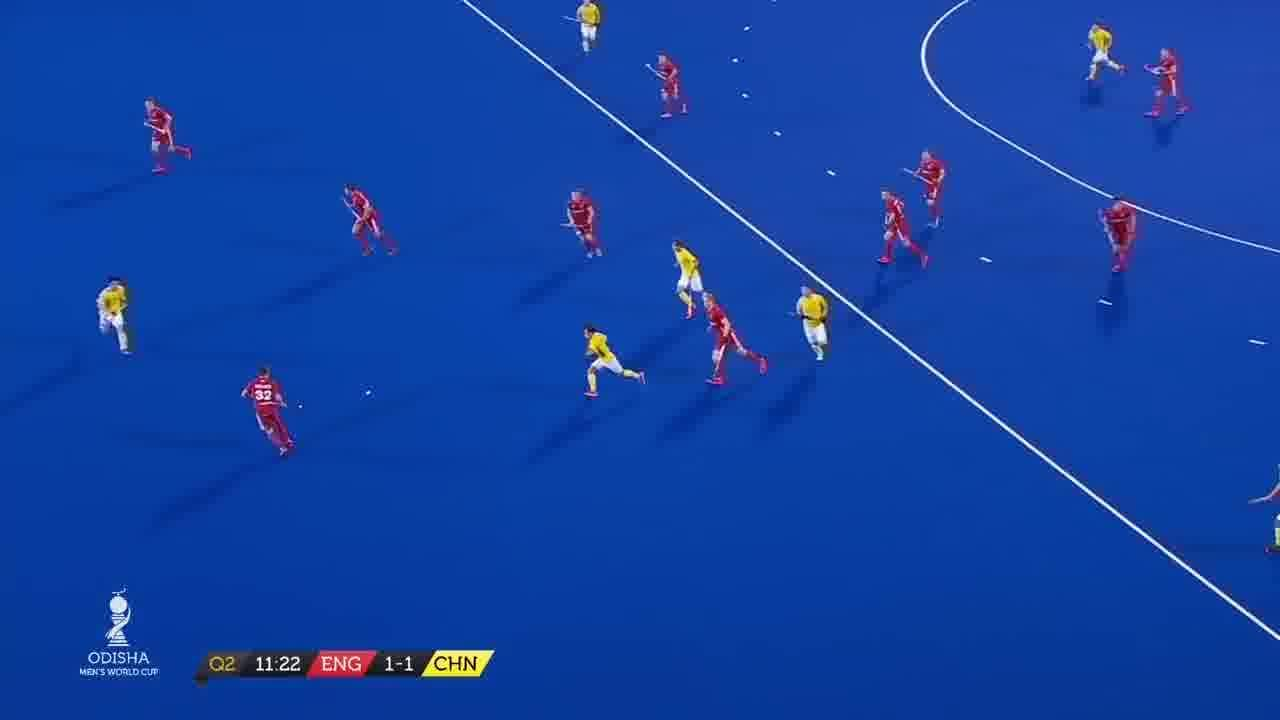ball: (354, 382, 378, 402)
